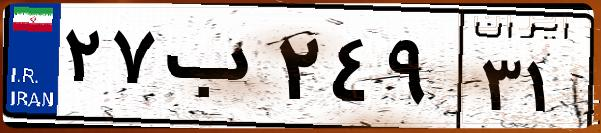1: (525, 38, 570, 115)
2: (270, 28, 330, 110), (57, 26, 110, 100)
3: (475, 38, 525, 113)
4: (330, 28, 385, 110)
7: (110, 28, 158, 98)
9: (385, 28, 445, 110)
ب: (158, 20, 270, 120)
